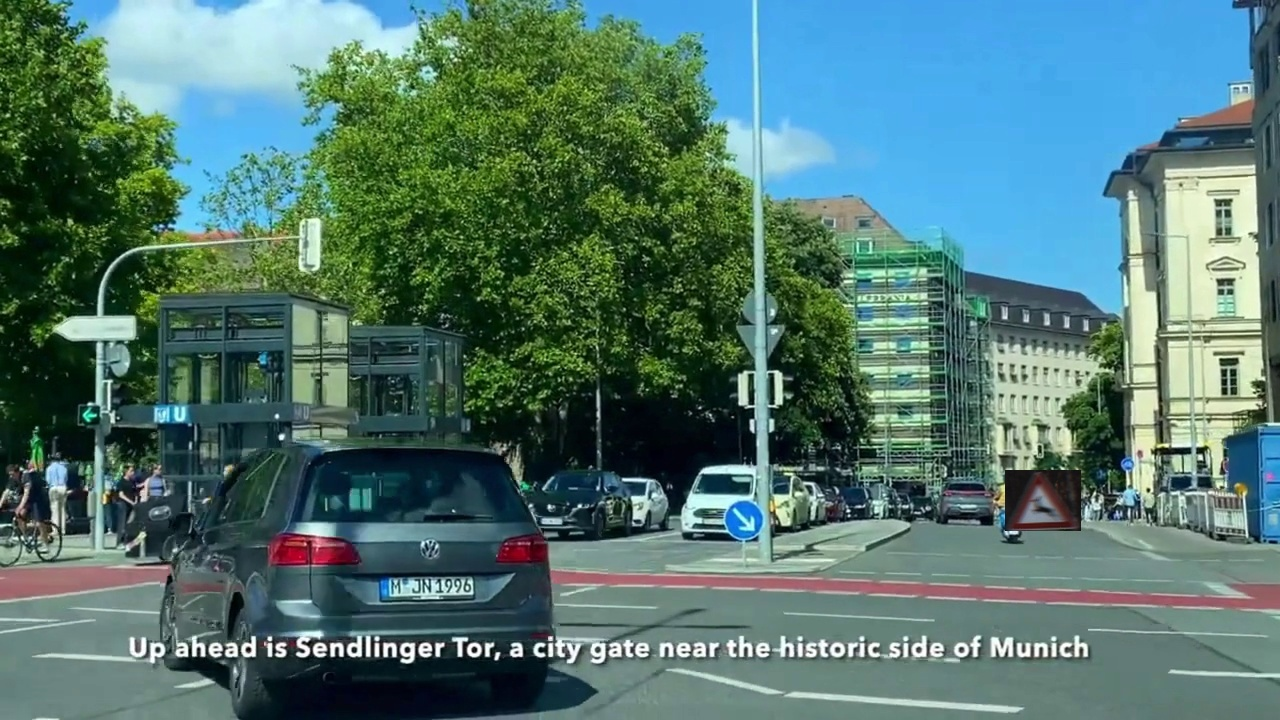Wild animals: (1005, 470, 1081, 531)
